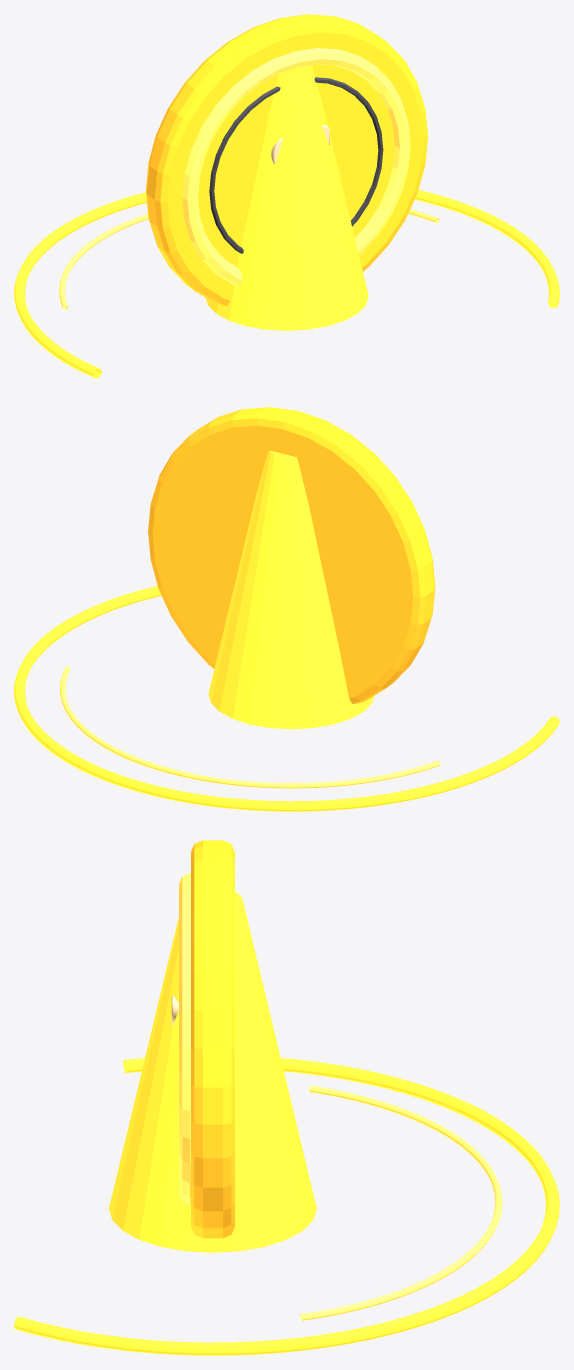
Rendered from boost_coin_gold_large_100.glb.
3 renders of one model, top to bottom at view 1: azimuth 30°, elevation 25°; view 2: azimuth 150°, elevation 25°; view 3: azimuth 270°, elevation 25°, orthographic. The views are drawn at different scales.
Visible parts, largest first — view 1: Gold boost 100 coin body, Gold boost 100 vertical pickup beam, Gold boost 100 outer raised rim, Gold boost 100 floor arc A, Gold boost 100 inset ring, Gold boost 100 floor arc B; view 2: Gold boost 100 coin body, Gold boost 100 vertical pickup beam, Gold boost 100 floor arc A, Gold boost 100 floor arc B; view 3: Gold boost 100 vertical pickup beam, Gold boost 100 coin body, Gold boost 100 floor arc A, Gold boost 100 outer raised rim, Gold boost 100 floor arc B.
Part boxes in pixels (x1=…): Gold boost 100 coin body: x1=146, y1=14, x2=427, y2=305; Gold boost 100 vertical pickup beam: x1=206, y1=65, x2=368, y2=330; Gold boost 100 outer raised rim: x1=182, y1=48, x2=410, y2=285; Gold boost 100 floor arc A: x1=14, y1=190, x2=559, y2=378; Gold boost 100 inset ring: x1=209, y1=77, x2=383, y2=253; Gold boost 100 floor arc B: x1=59, y1=209, x2=439, y2=310; Gold boost 100 coin body: x1=148, y1=407, x2=435, y2=703; Gold boost 100 vertical pickup beam: x1=208, y1=450, x2=374, y2=729; Gold boost 100 floor arc A: x1=14, y1=586, x2=559, y2=811; Gold boost 100 floor arc B: x1=60, y1=666, x2=440, y2=788; Gold boost 100 vertical pickup beam: x1=109, y1=892, x2=316, y2=1252; Gold boost 100 coin body: x1=191, y1=840, x2=234, y2=1238; Gold boost 100 floor arc A: x1=14, y1=1058, x2=559, y2=1355; Gold boost 100 outer raised rim: x1=179, y1=873, x2=190, y2=1205; Gold boost 100 floor arc B: x1=300, y1=1085, x2=502, y2=1320.
Size of the model in its own units: 2.15 by 1.24 by 1.69.
